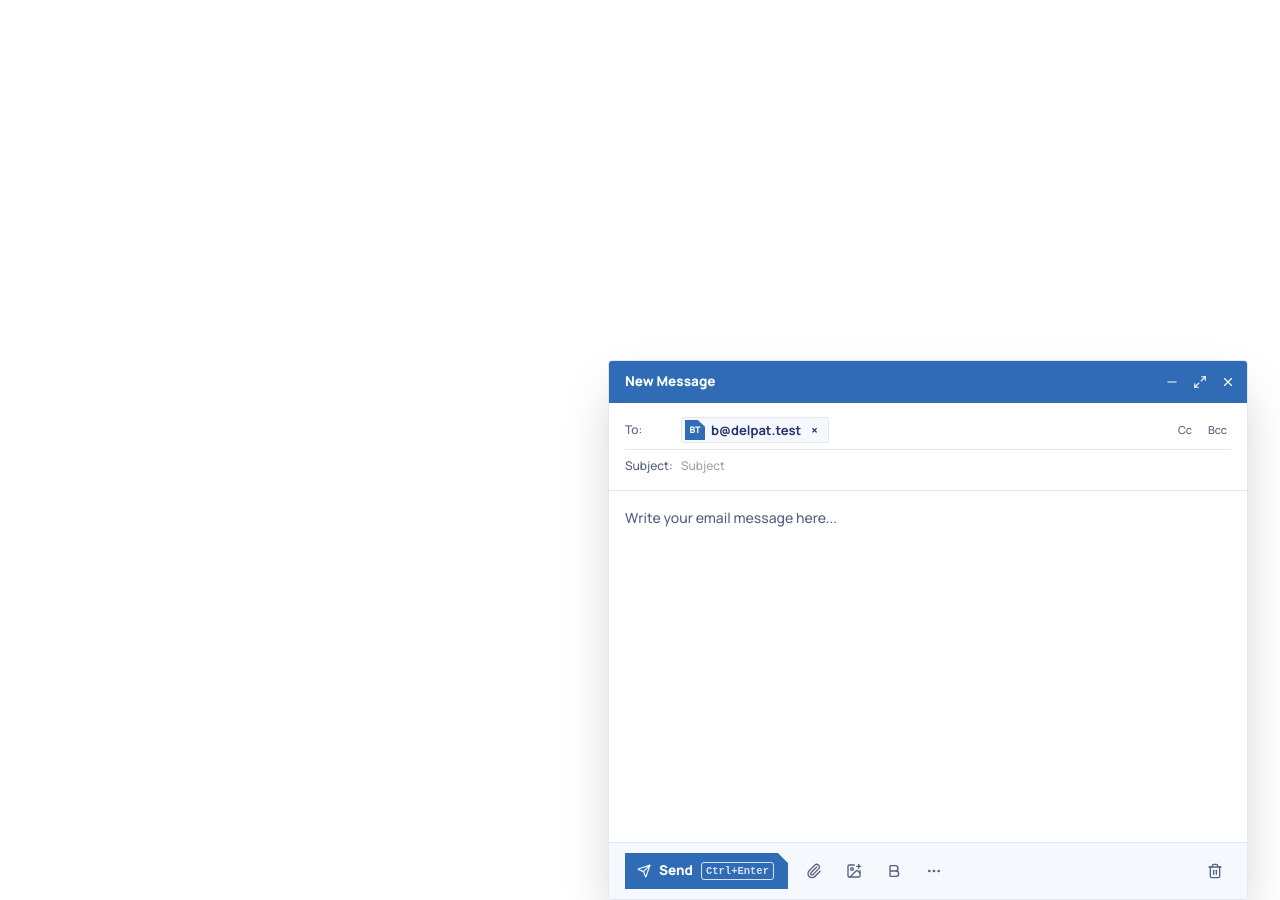
Test: composer with the rich editor › Plain text switch: no confirmation when there is nothing to lose, then sends text only
Later steps or results of the test are not shown.
Click the field named "Message" at (928, 587), box [625, 507, 1231, 667]
Type keys "just words"
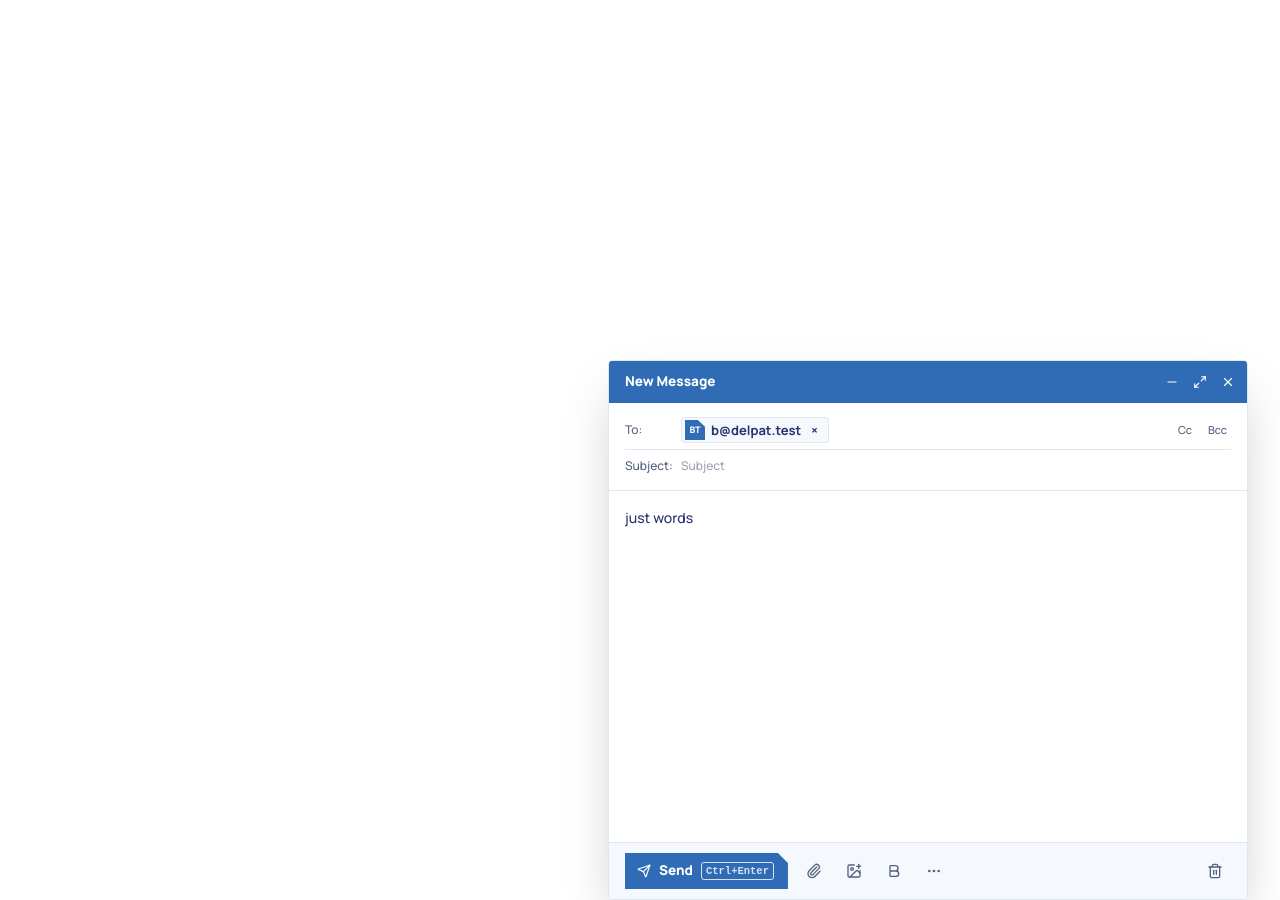
Click the button named "More composer options" at (934, 871), box [916, 853, 952, 889]
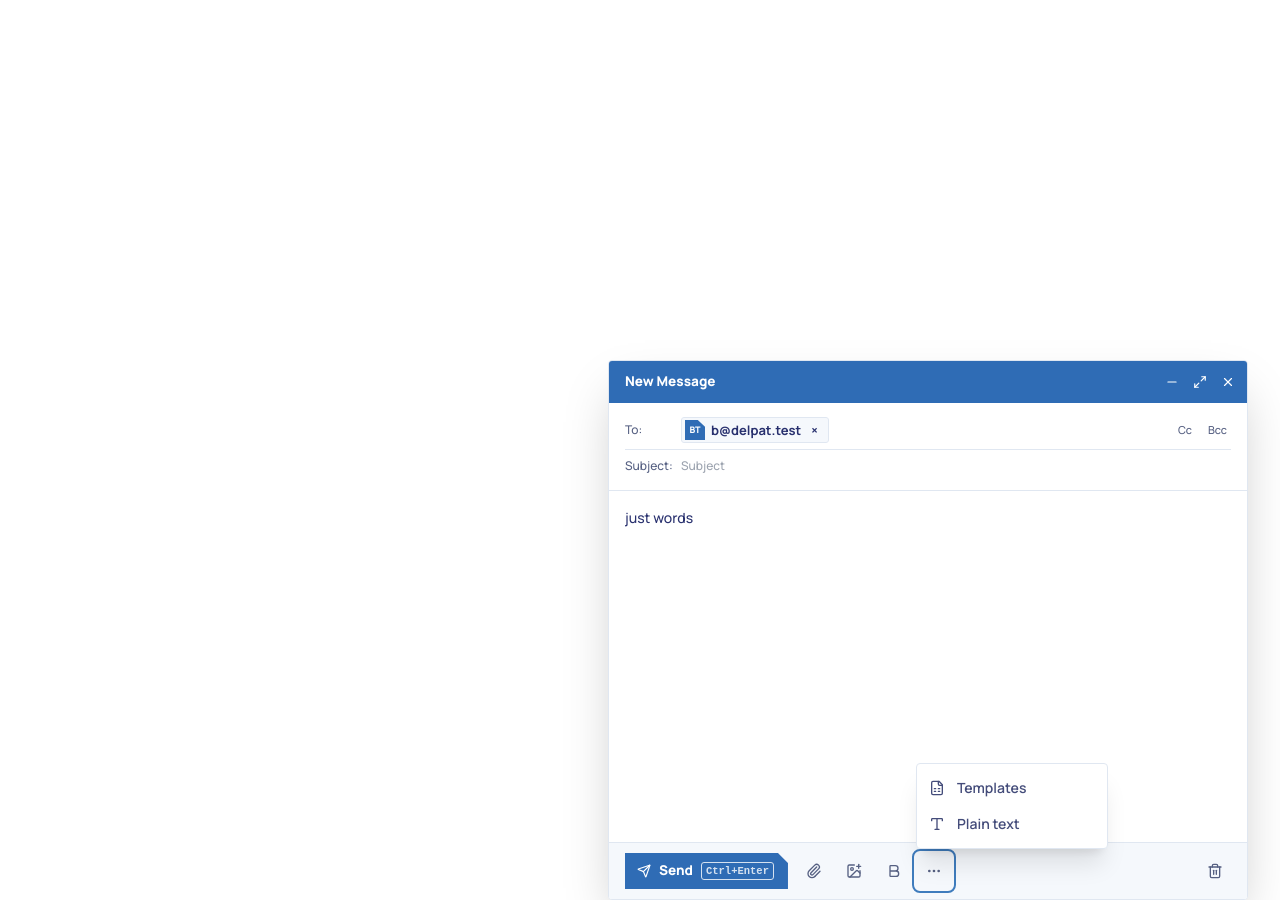
Click the menu item "Plain text" at (1012, 824), box [917, 806, 1107, 842]
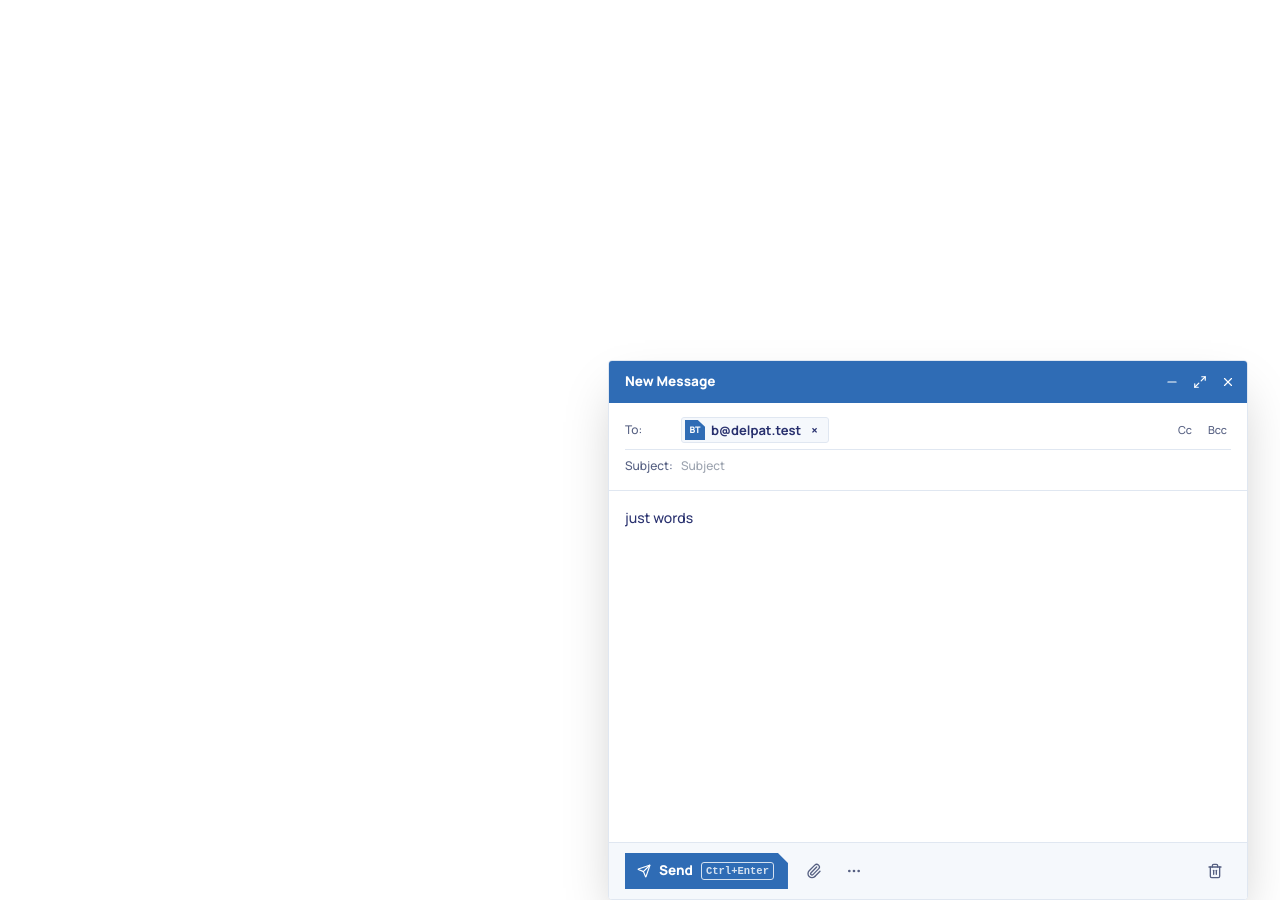
Expected: the text box named "message" holds "just words", [625, 507, 1231, 826]
